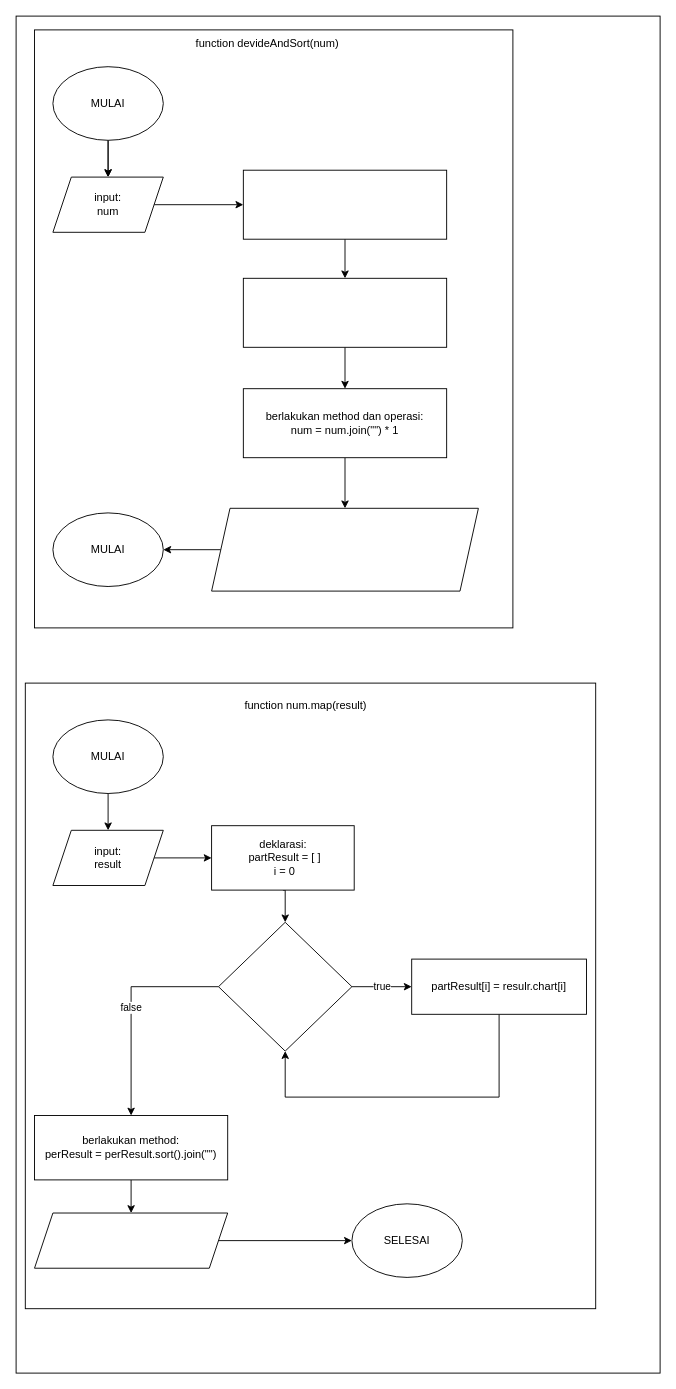
The diagram is 676 pixels wide and 1389 high, and some of its shapes have lost their labels. The shapes that lost their labels are listed below. From the top down, each one's centre as x and y in pixels, then its label:
[344,204]: berlakukan method: num = num.toString().split(0)
[344,312]: berlakukan method function: num = num.map(result)
[344,549]: Output : console.log(num) console.log(typeof num)
[285,986]: i <= result.length - 1
[131,1240]: Output: return perResult
